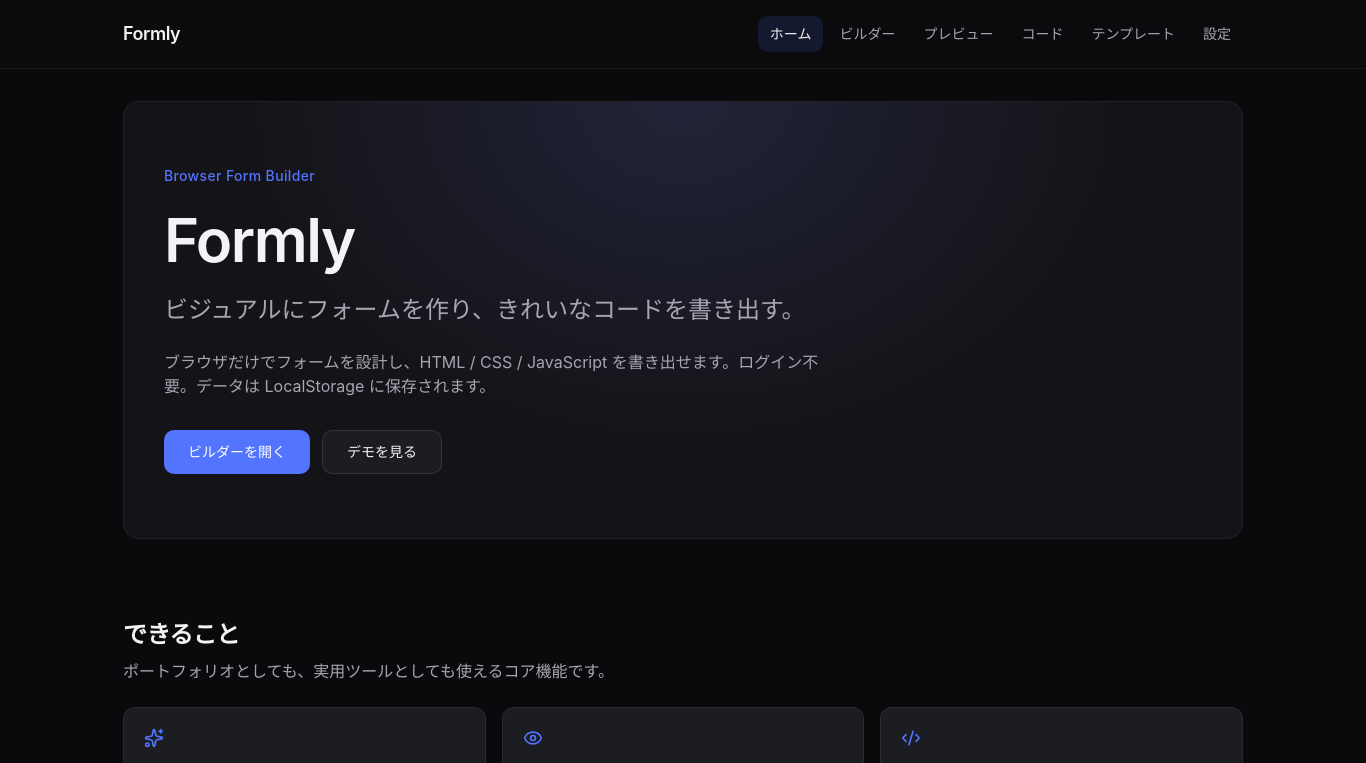
Scenario: app navigation › renders the home page and navigates to the builder
The width and height of the screenshot is (1366, 763).
Expected: the heading "Formly" is shown, [164,204,355,276]
Click the link "ビルダーを開く" at (237, 452), box [164,430,310,474]
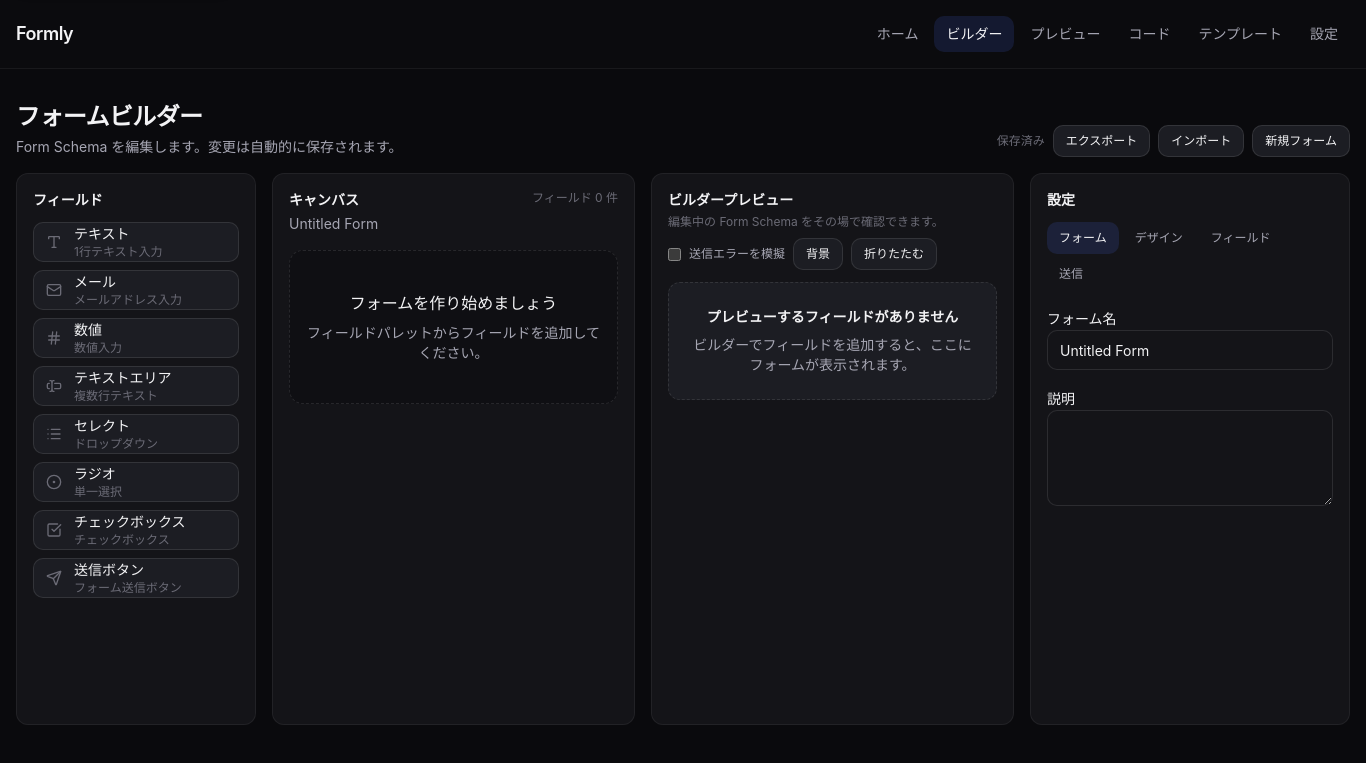
Expected: the heading "フォームビルダー" is shown, [16,102,202,131]
